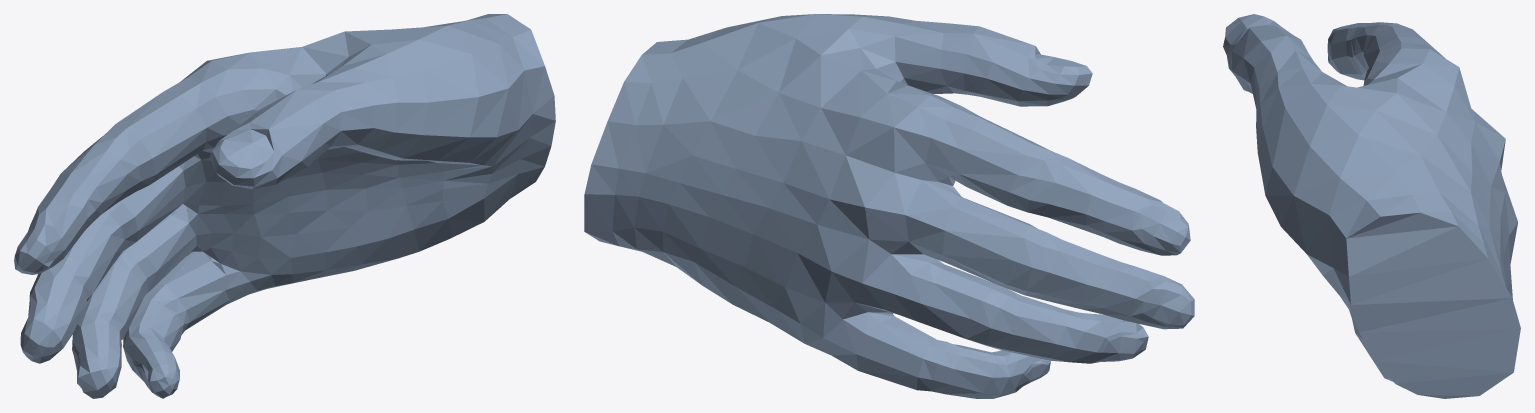
Rendered from frame_00011_0.obj.
3 renders of one model, left to right at view 1: azimuth 30°, elevation 25°; view 2: azimuth 150°, elevation 25°; view 3: azimuth 270°, elevation 25°, orthographic. The views are drawn at different scales.
Bounding box in the file's own units: 0.1778 × 0.0977 × 0.0837.
